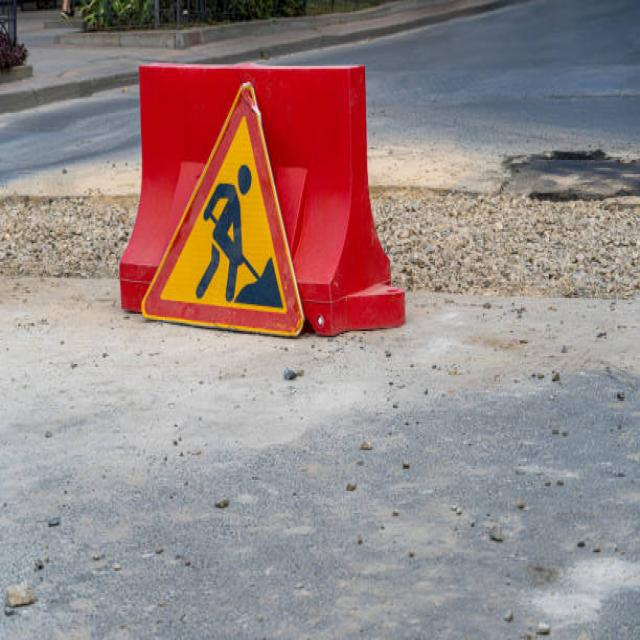road_work: (139, 77, 312, 343)
